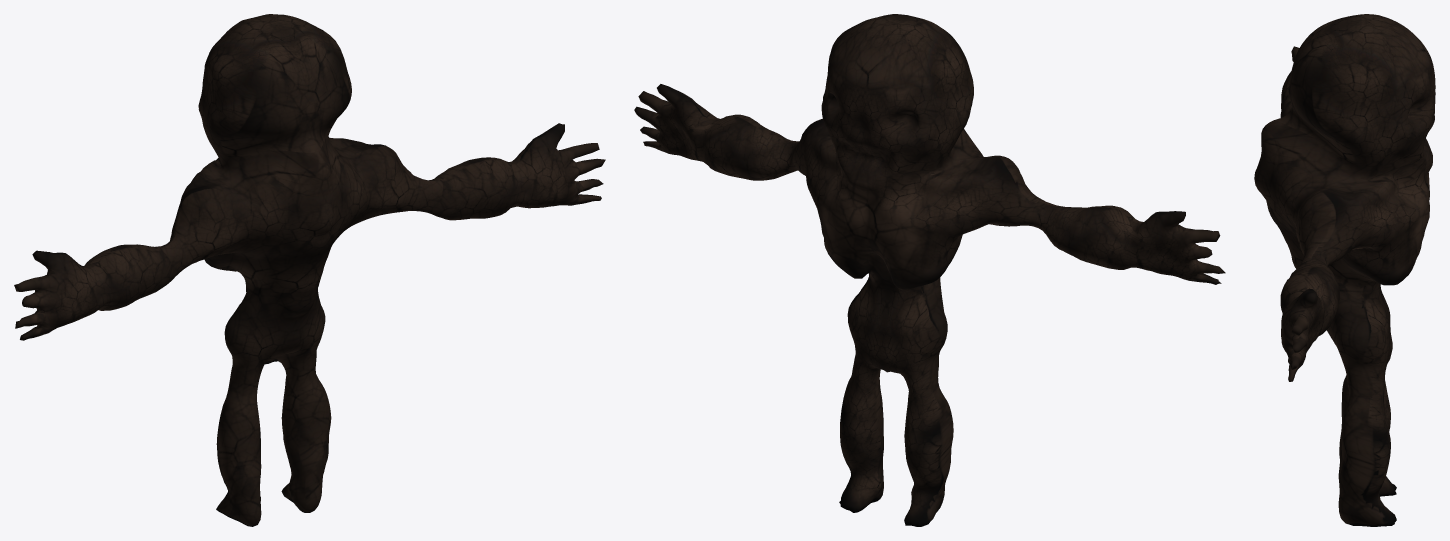
Rendered from chehik.fbx.
3 views of the same model, side by side, from view 1: azimuth 30°, elevation 25°; view 2: azimuth 150°, elevation 25°; view 3: azimuth 270°, elevation 25° (orthographic).
Parts seen in each view (by area): view 1: hi; view 2: hi; view 3: hi.
Boxes of the visible parts, left/top/right/bottom form: hi: left=14, top=14, right=605, bottom=526; hi: left=634, top=14, right=1225, bottom=526; hi: left=1254, top=14, right=1435, bottom=526.
Bounding box in the file's own units: 158 × 125 × 42.04.
